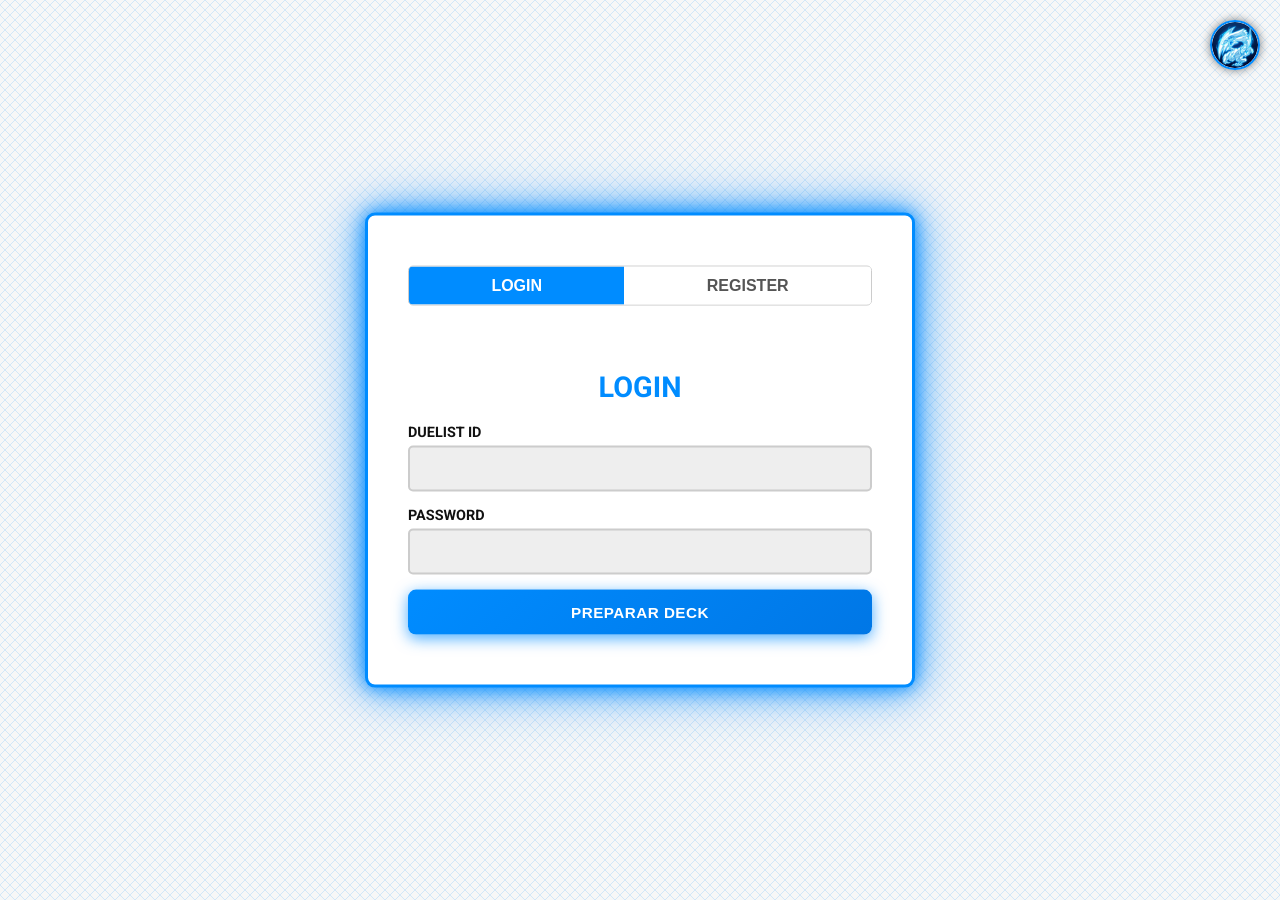
Test: AuthPage Component › deve alternar para formulário de registro
Click the button "REGISTER". click: (748, 286)
box: x1=624 y1=267 x2=871 y2=305
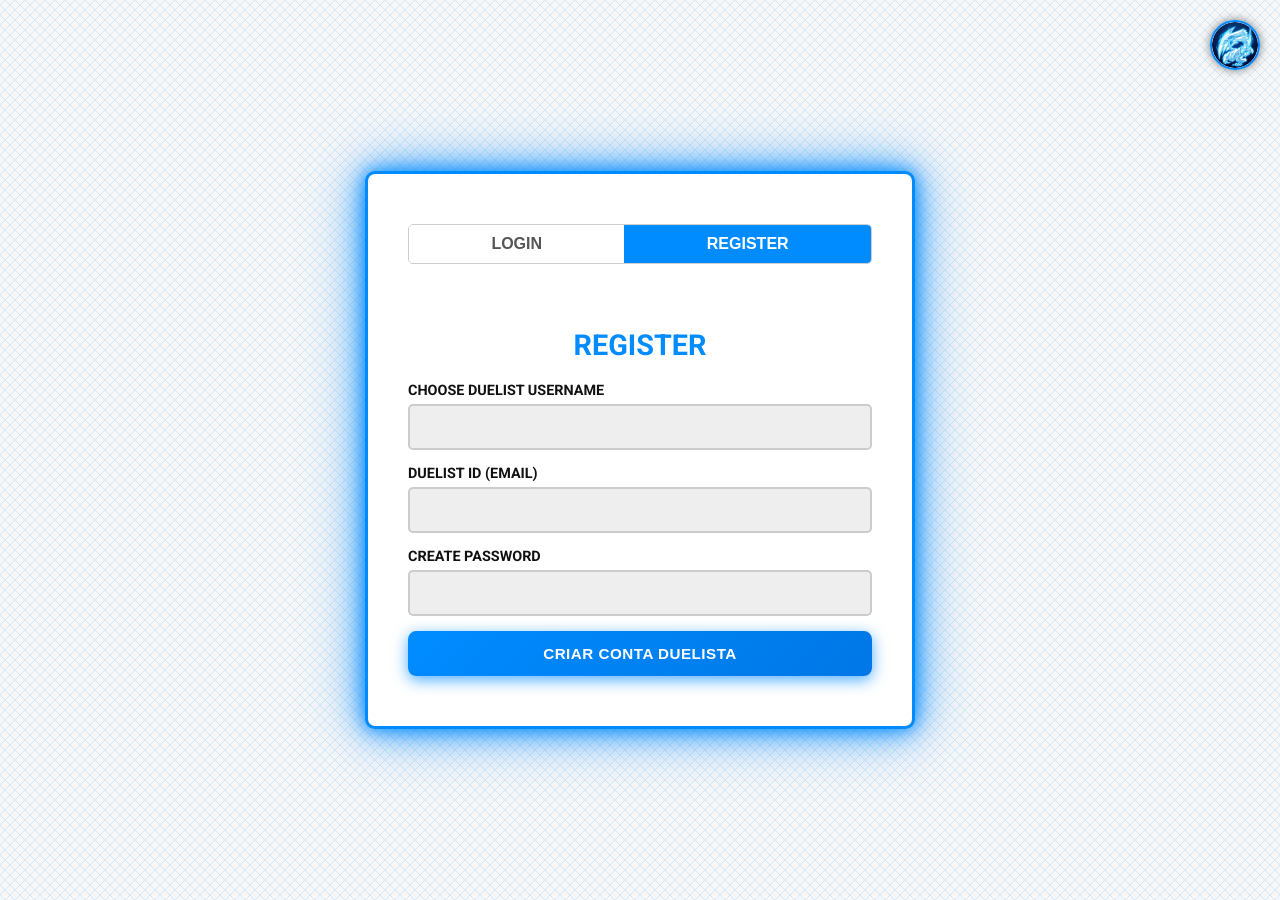
Expected: the field labelled "CHOOSE DUELIST USERNAME" is shown, x1=408 y1=404 x2=872 y2=450
Expected: the field labelled "DUELIST ID (EMAIL)" is shown, x1=408 y1=487 x2=872 y2=533
Expected: the button "CRIAR CONTA DUELISTA" is shown, x1=408 y1=631 x2=872 y2=676
